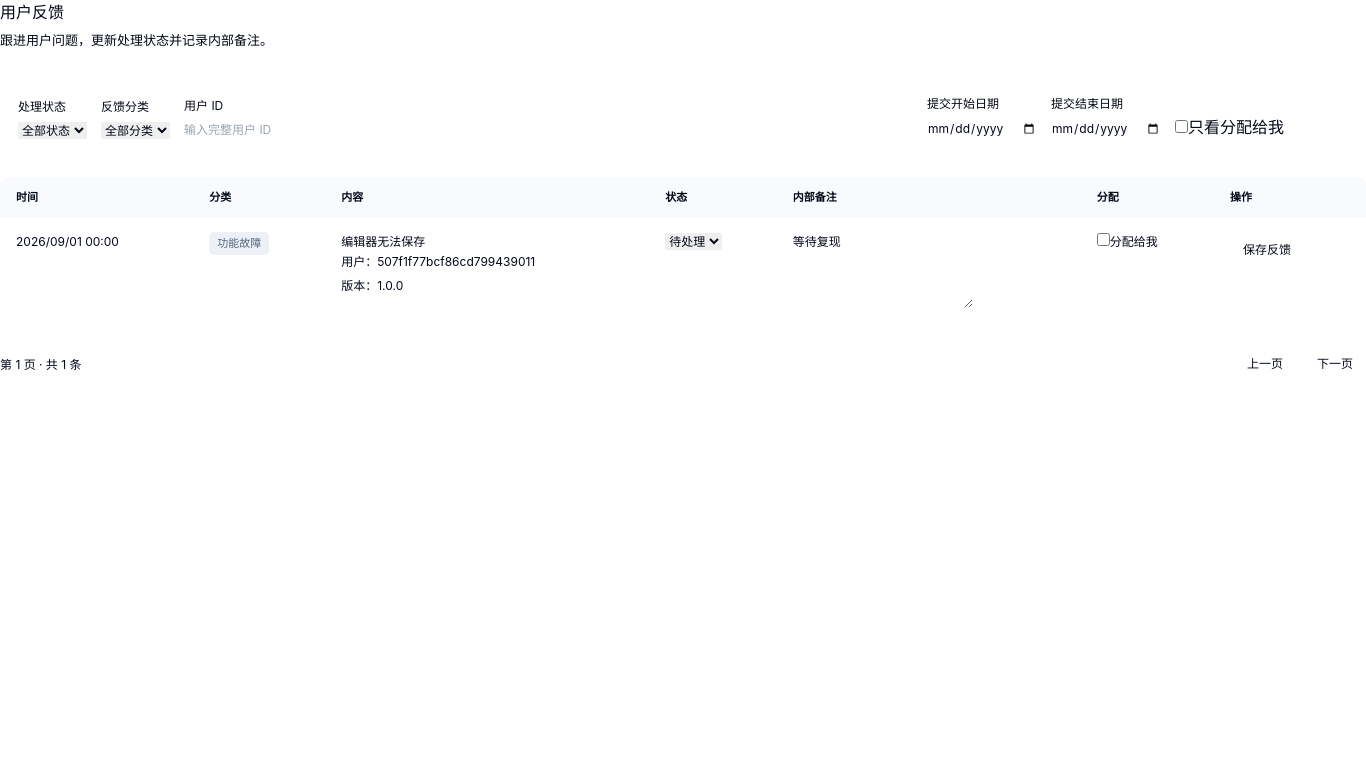
Test case: FeedbackPage › keeps a failed save inside the reason dialog, preserving edits and allowing a retry
Expected: the text "编辑器无法保存" is shown, x1=341 y1=234 x2=425 y2=249
Replace the text in the text box named "内部备注 feedback-1" with "保留这段编辑": (883, 270) x1=793 y1=232 x2=973 y2=308
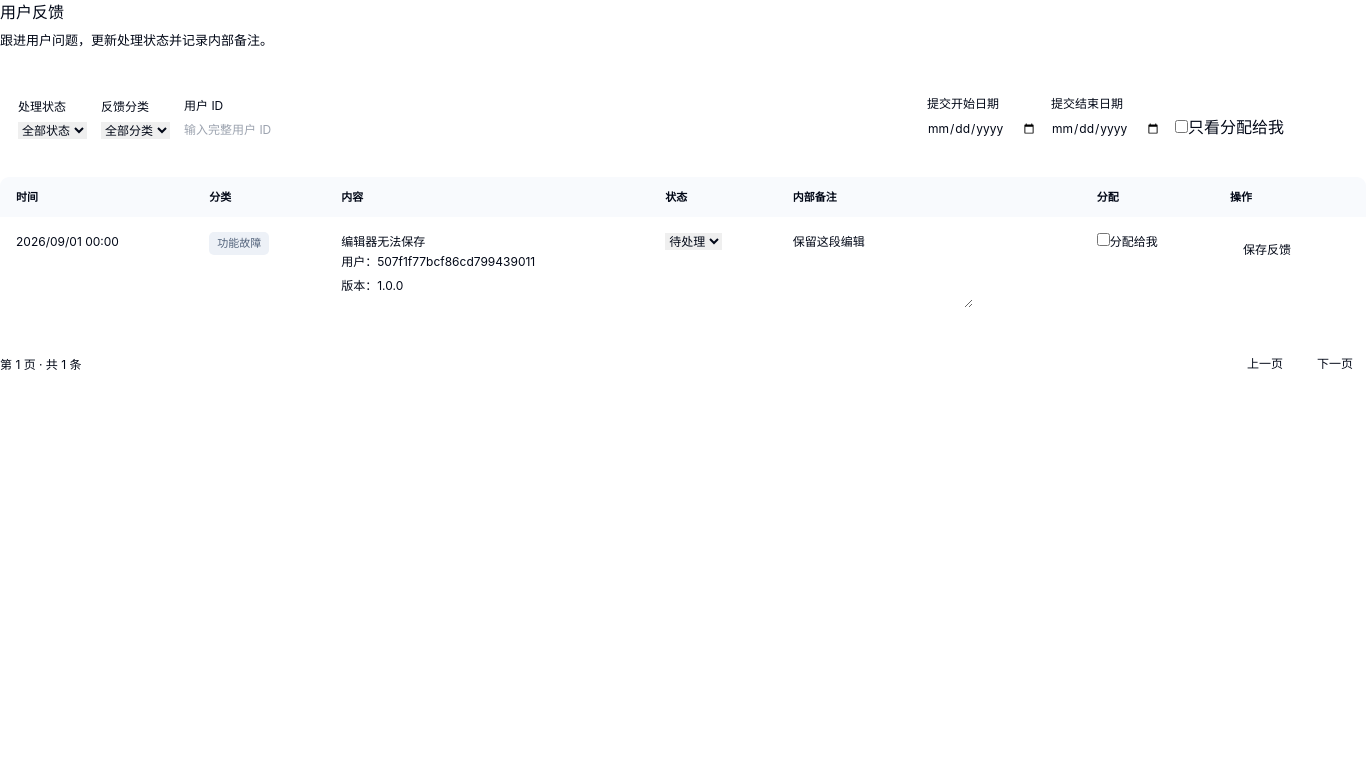
Click the button with aria-label "保存反馈 feedback-1": (1267, 250) x1=1230 y1=232 x2=1304 y2=268
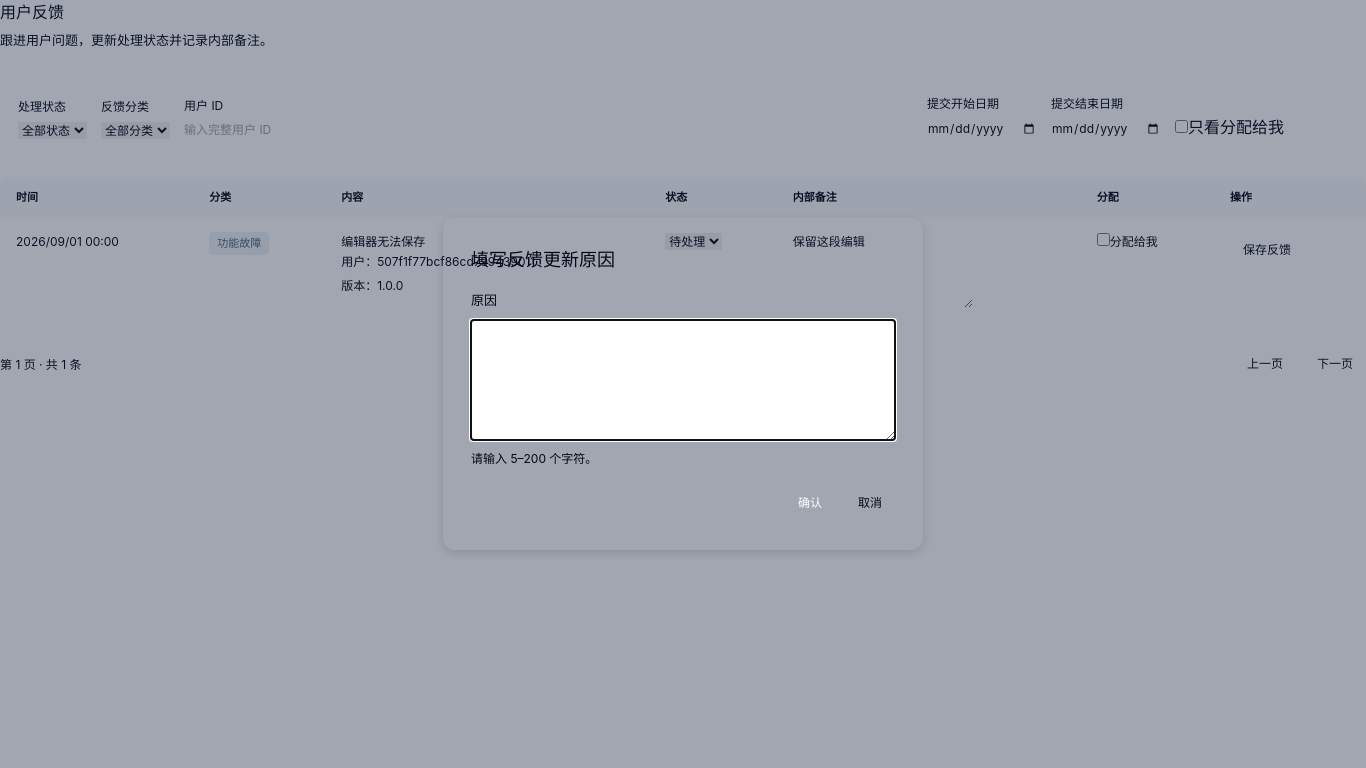
In the text box labelled "原因": (683, 380) x1=471 y1=320 x2=895 y2=440, type "尝试更新内部备注以便跟进"
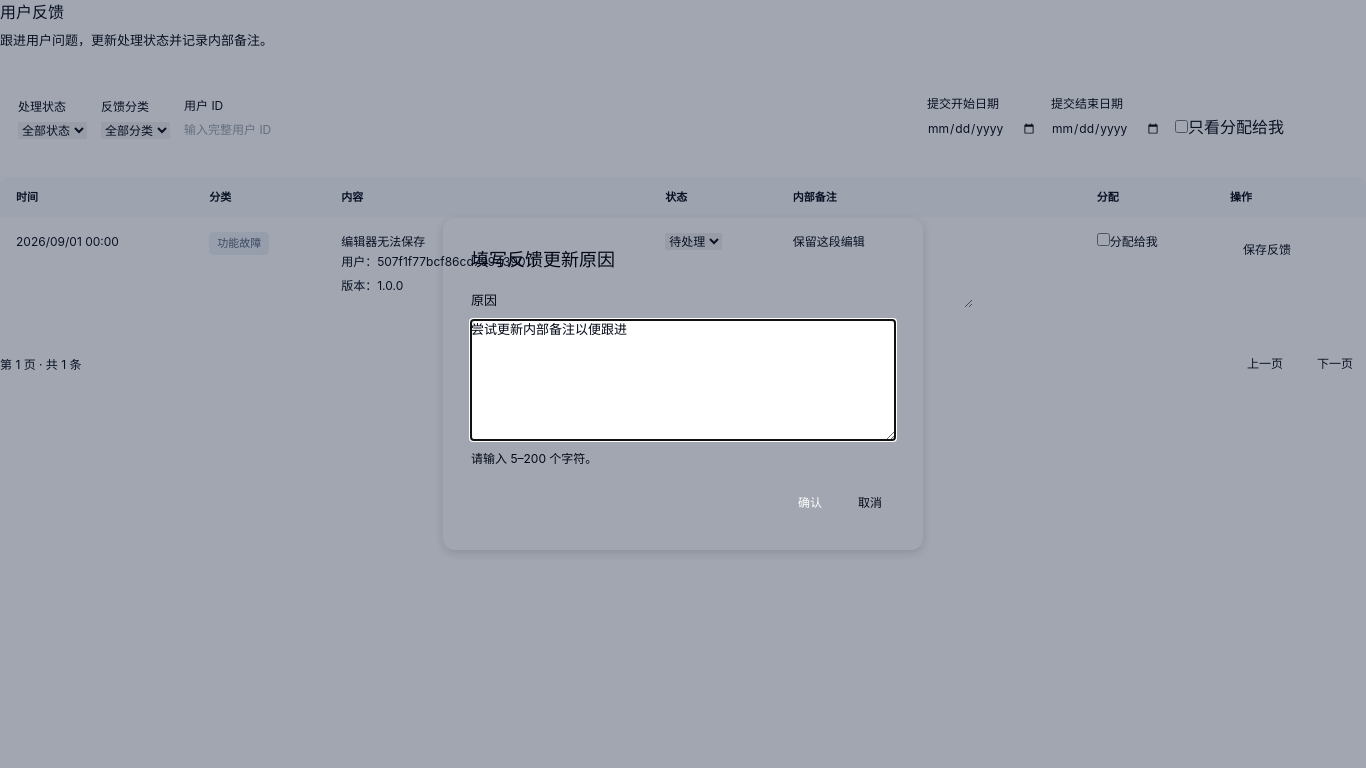
Click the button "确认": (810, 504) x1=785 y1=486 x2=835 y2=522
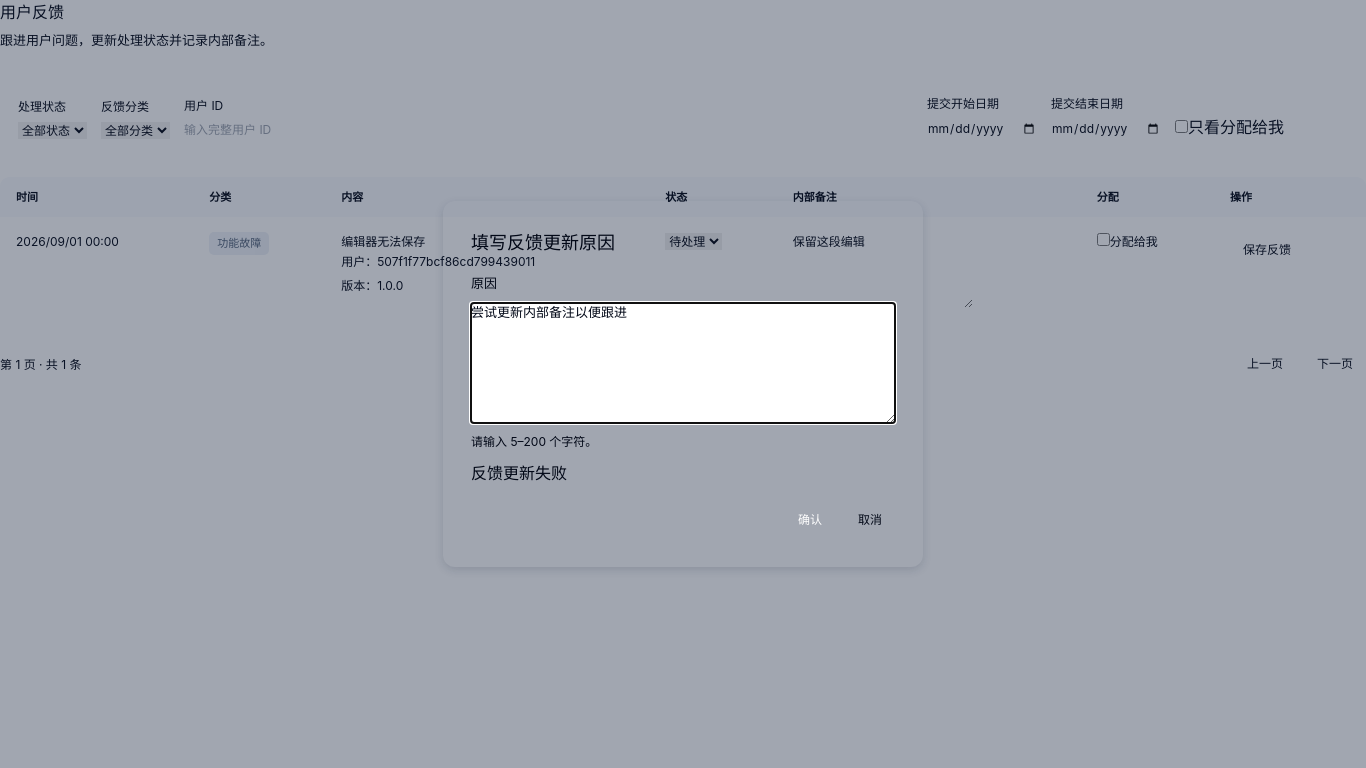
Expected: the message reads "反馈更新失败", x1=471 y1=463 x2=567 y2=483
Click the button "确认": (810, 521) x1=785 y1=503 x2=835 y2=539
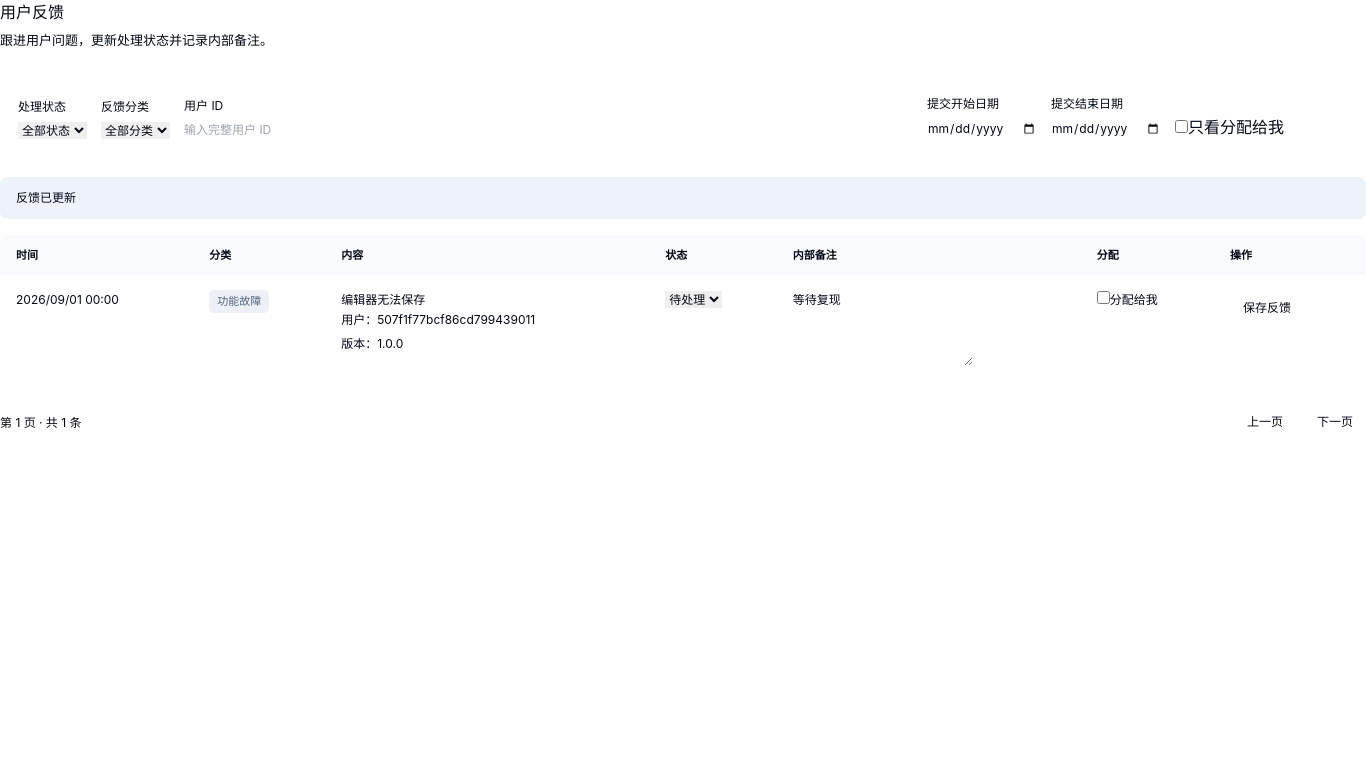
Expected: the text "反馈已更新" is shown, x1=0 y1=176 x2=1365 y2=218
Expected: the dialog is gone
